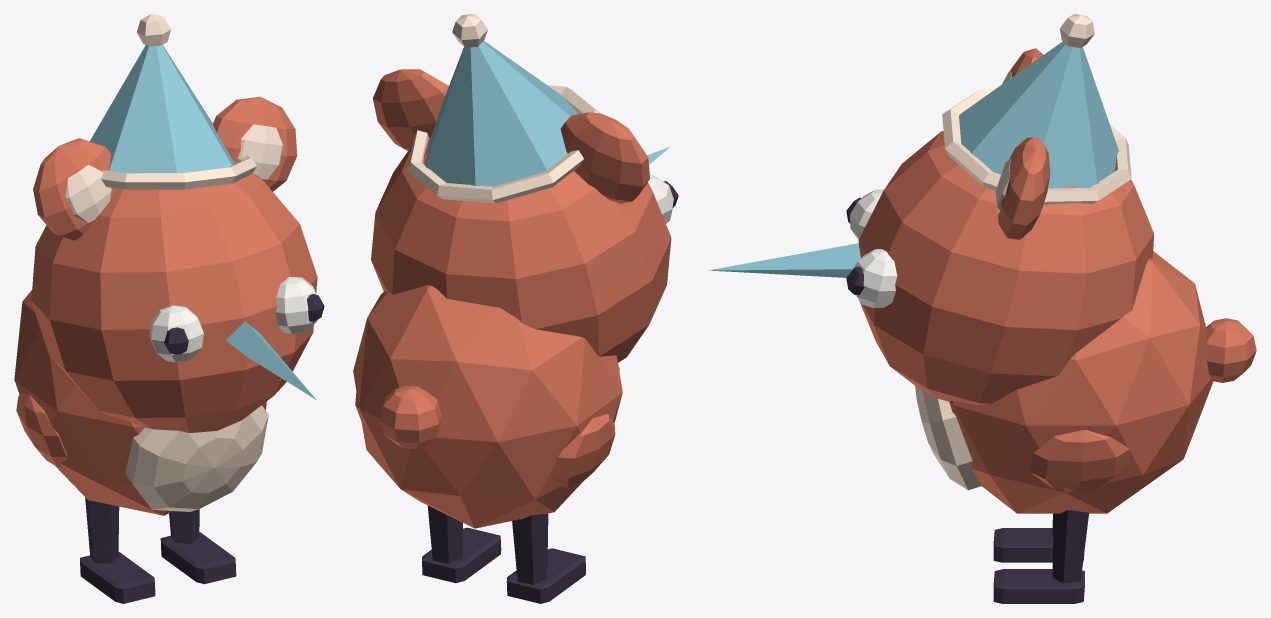
File: bird-medieval-1.glb
3 renders of one model, left to right at view 1: azimuth 30°, elevation 25°; view 2: azimuth 150°, elevation 25°; view 3: azimuth 270°, elevation 25°, orthographic. The views are drawn at different scales.
Visible parts, largest first — view 1: bird-medieval-1; view 2: bird-medieval-1; view 3: bird-medieval-1.
Boxes of the visible parts, <box> form: bird-medieval-1: <box>14,14,324,603</box>; bird-medieval-1: <box>353,14,678,603</box>; bird-medieval-1: <box>707,14,1256,603</box>.
Size of the model in its own units: 0.4443 by 0.9 by 0.7901.
